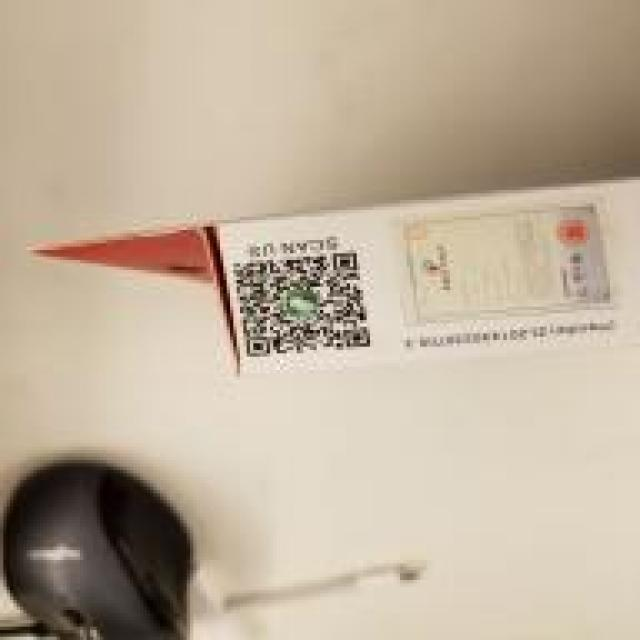qr_code: (231, 252, 371, 357)
